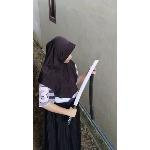Pedang: (64, 58, 102, 130)
